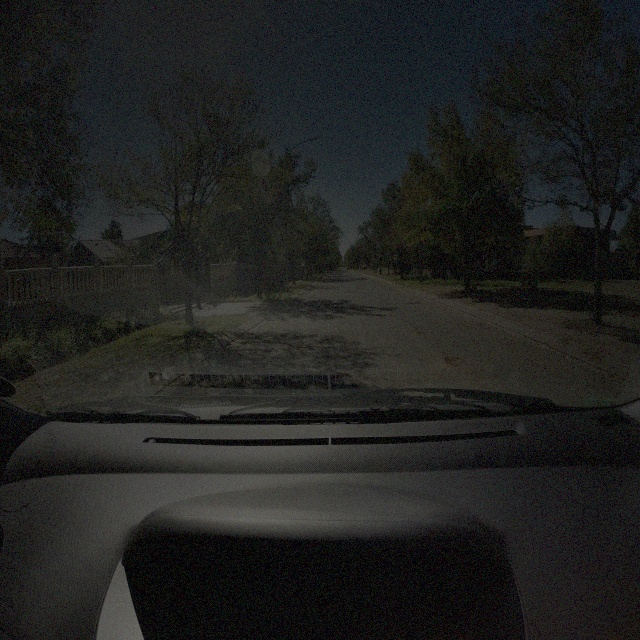pothole: (444, 352, 464, 370)
